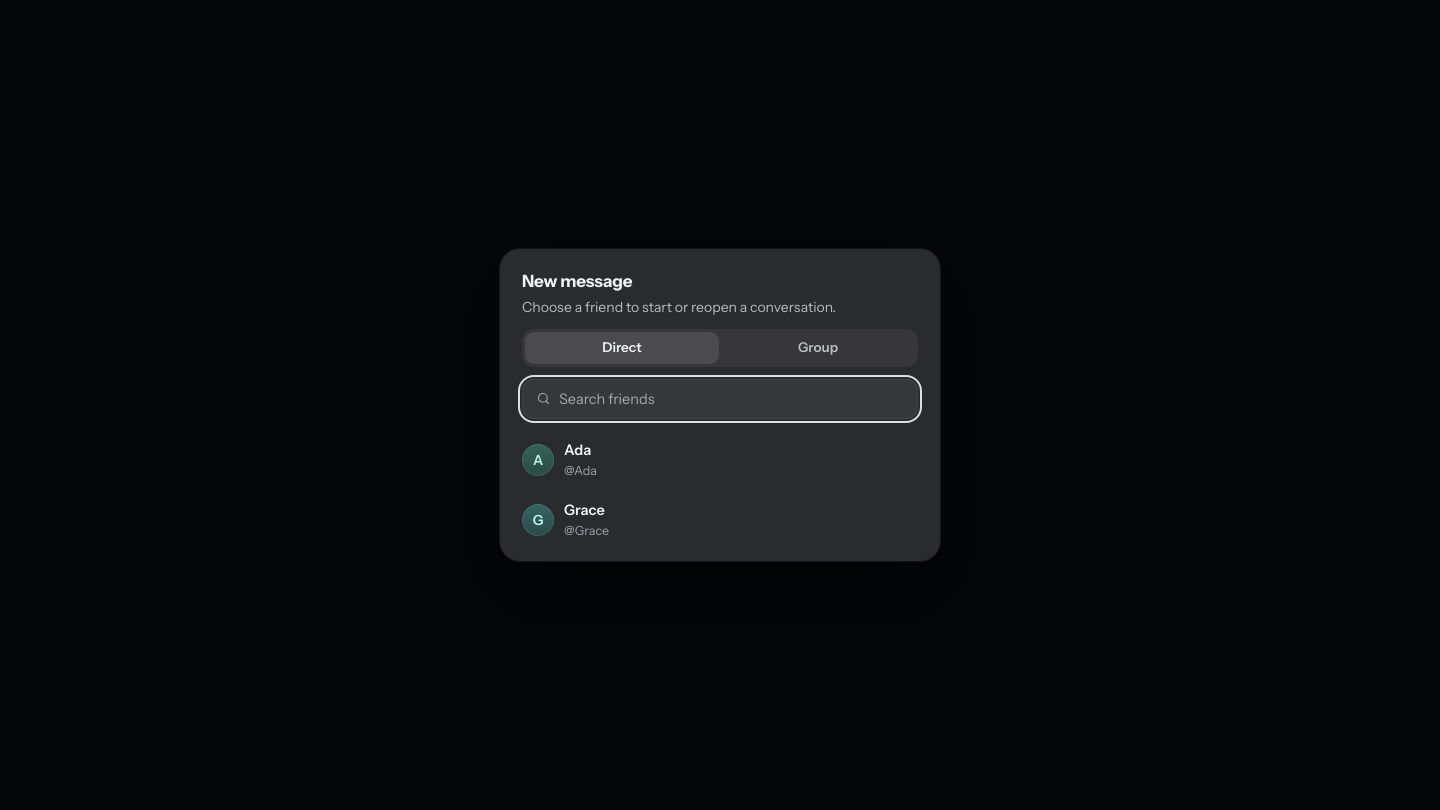
DmPickerModal › filters friends and explains an empty search result
The width and height of the screenshot is (1440, 810).
Type "gra" into the search field labelled "Search friends" at (732, 399), box [559, 379, 904, 419]
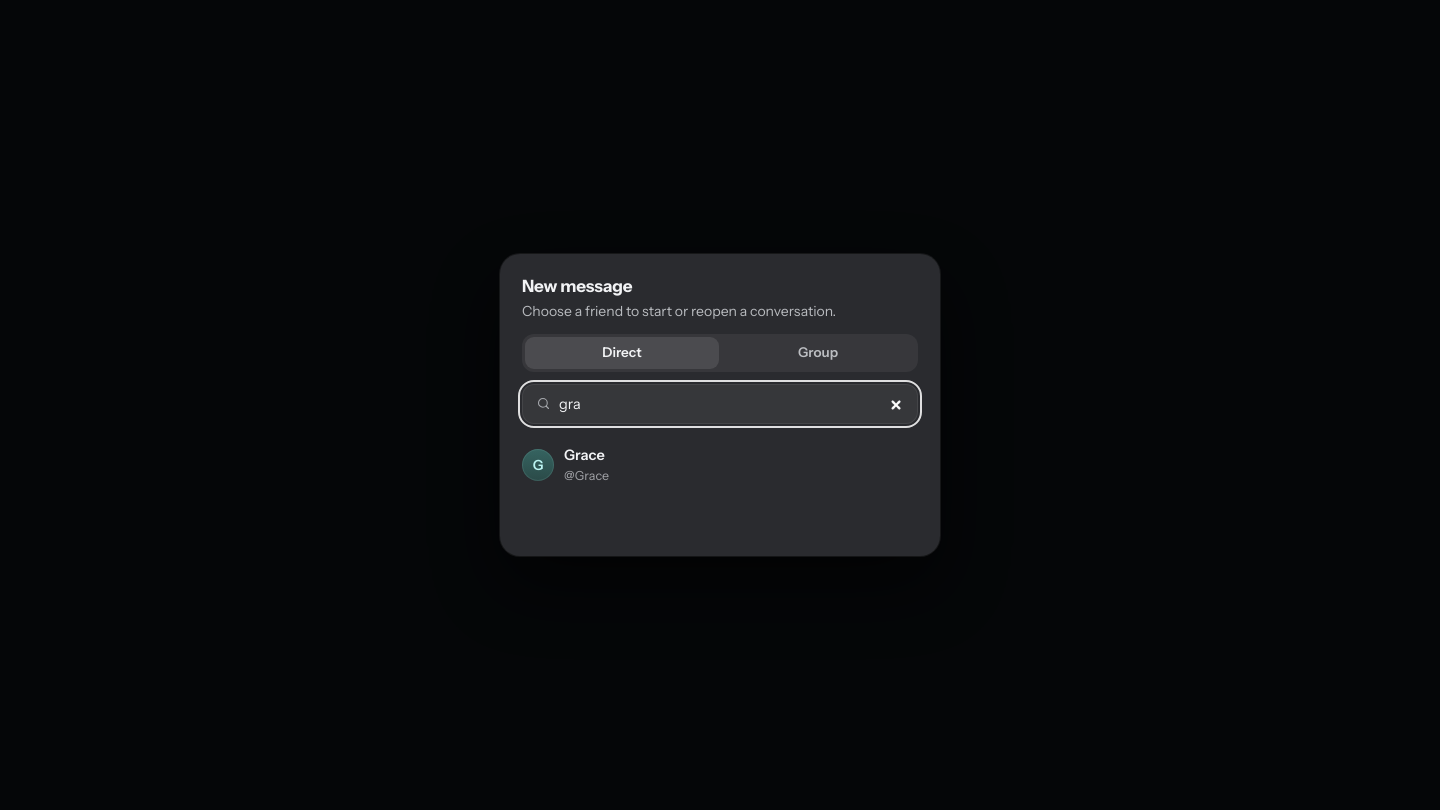
Expected: the text "Grace" is shown, [564, 446, 605, 464]
Expected: the button "Ada" is gone
Clear the search field named "Search friends" at (732, 404), box [559, 384, 904, 424]
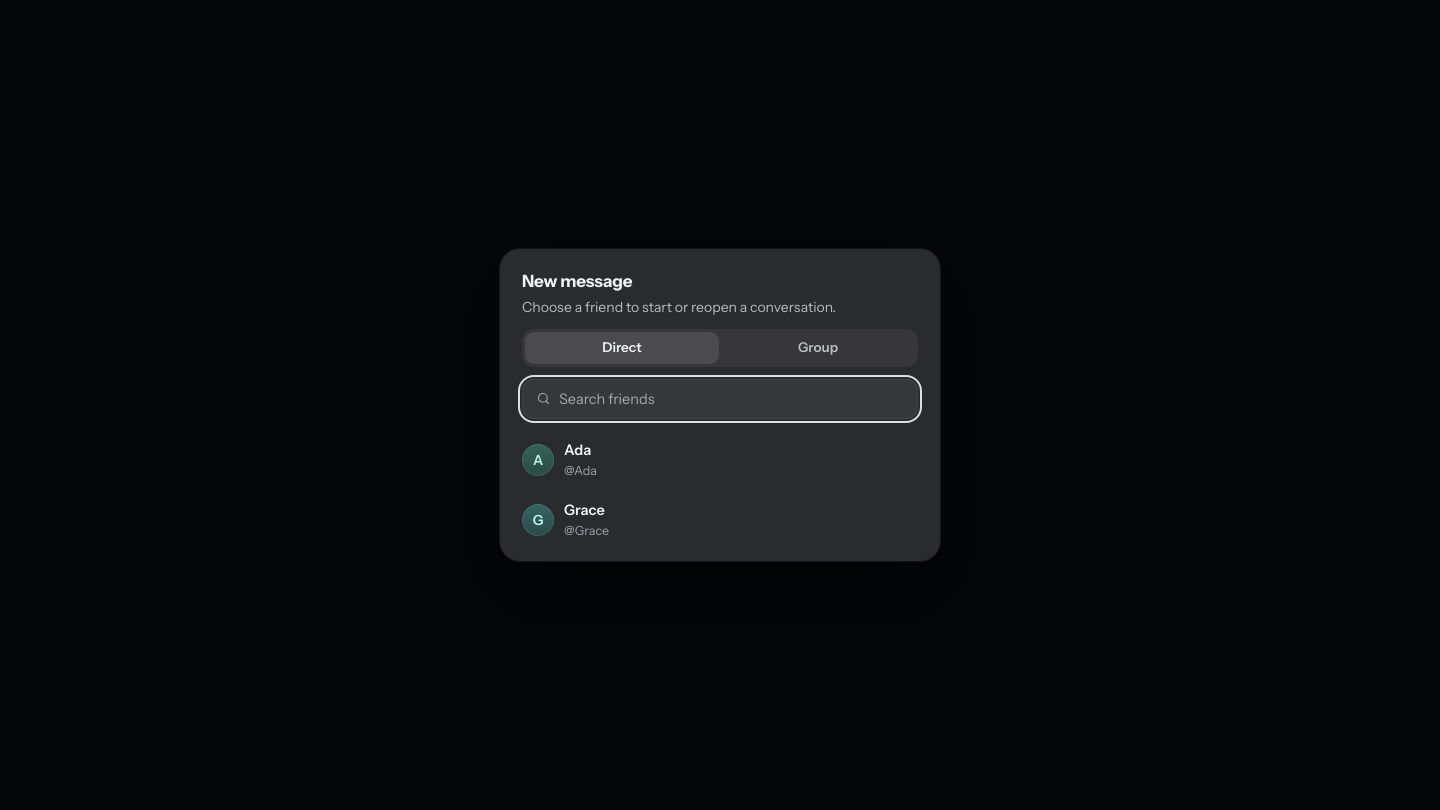
Type "nobody" into the search field labelled "Search friends" at (732, 399), box [559, 379, 904, 419]
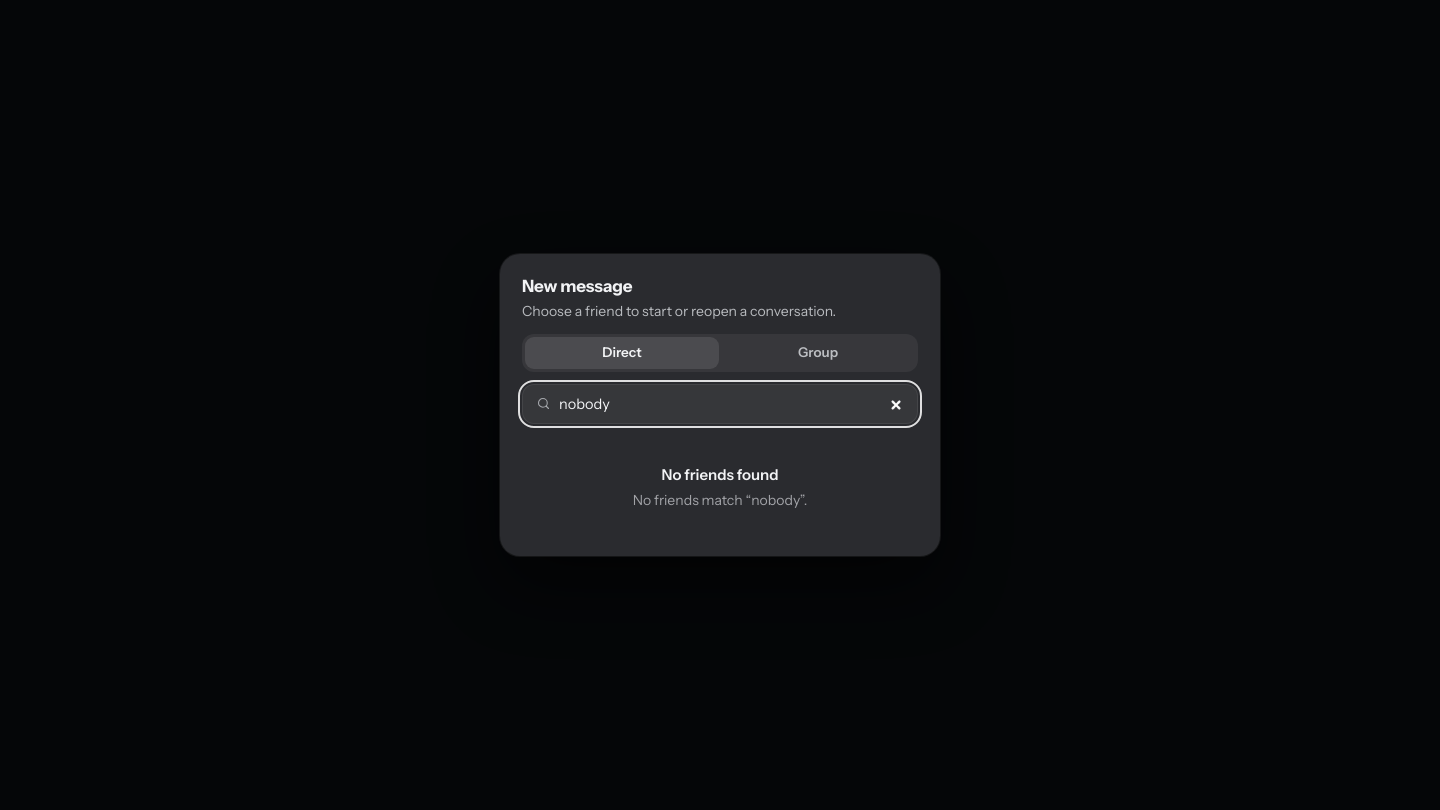
Expected: the text "No friends found" is shown, [662, 465, 778, 484]
